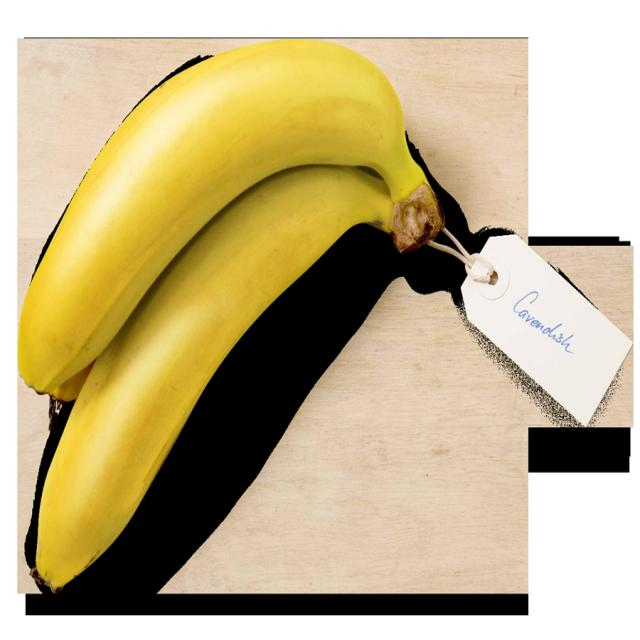banana: (20, 32, 442, 587)
